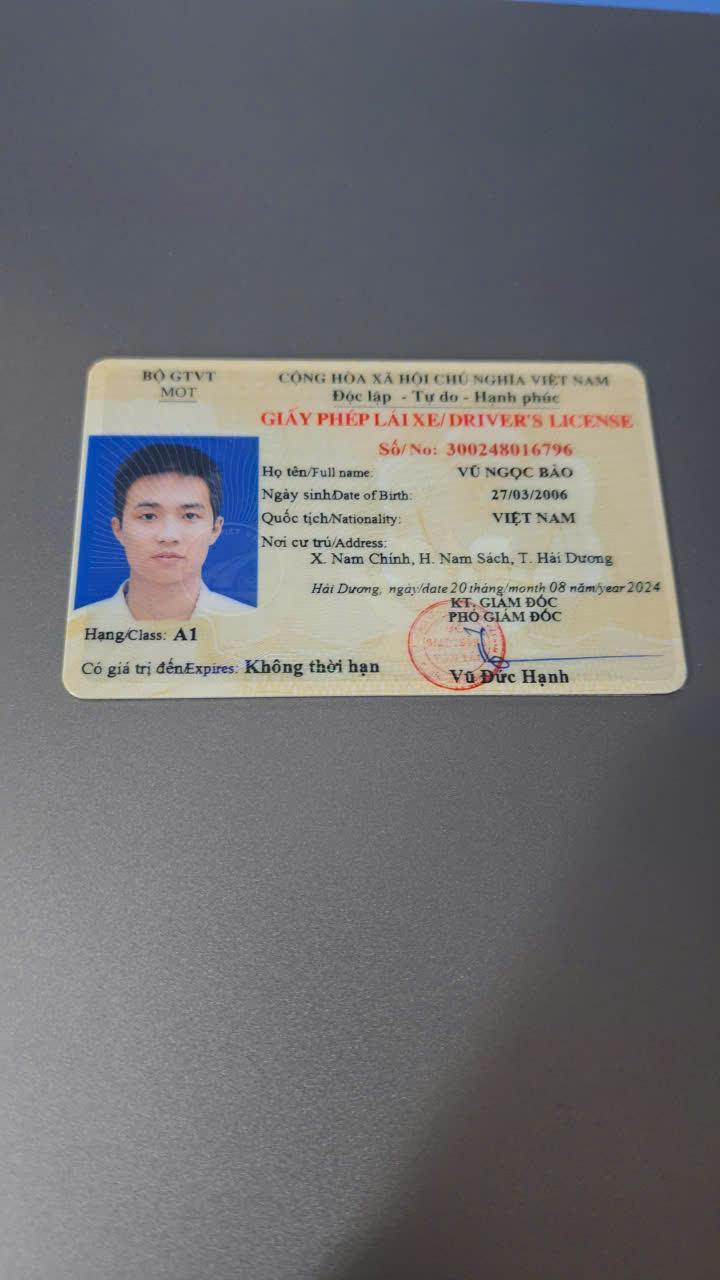gplx: (56, 349, 690, 705)
